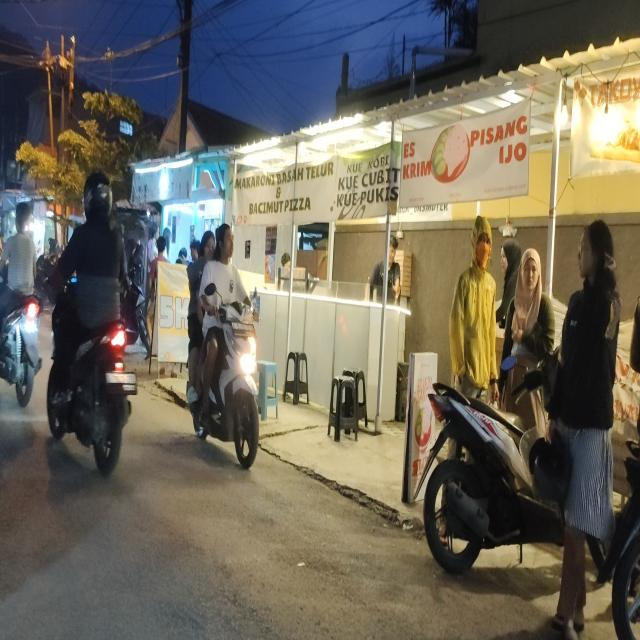helmet: (84, 173, 112, 224)
no-helmet: (216, 220, 235, 264), (14, 200, 32, 232), (200, 229, 216, 259)
